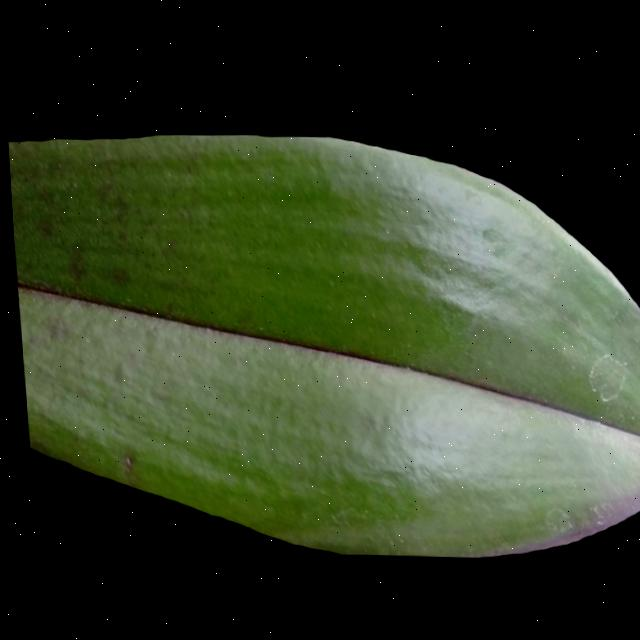mite: (7, 153, 145, 293), (104, 358, 135, 475), (58, 243, 132, 291), (579, 348, 628, 400), (59, 245, 89, 283), (475, 222, 508, 256), (26, 210, 58, 241), (534, 502, 569, 530), (102, 265, 129, 286), (30, 215, 53, 237), (106, 360, 124, 384), (114, 453, 129, 472)
spots: (6, 129, 640, 558)
